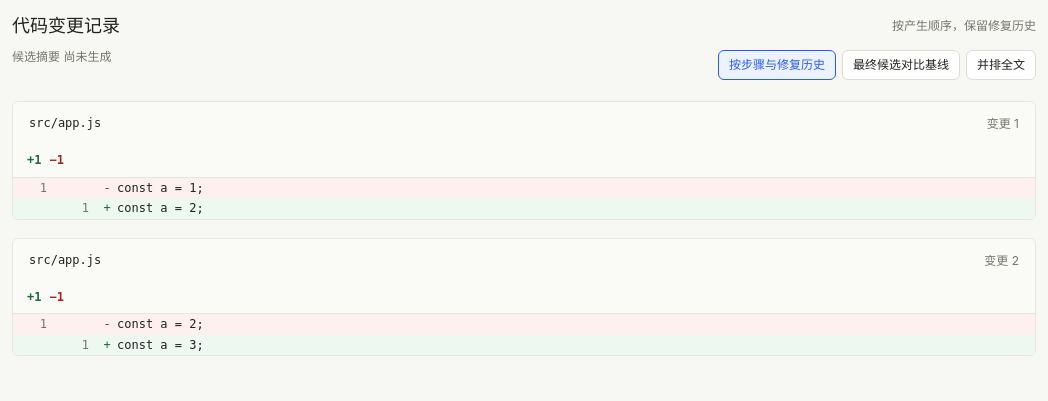
Scenario: switches between step history, net baseline diff, and side-by-side in code changes view
The image size is (1048, 401).
Check: the text "src/app.js" is shown 2 times, box [29,114,101,133]; [29,251,101,270]
Check: the text "变更 1" is shown, box [987,114,1019,133]
Click the button "最终候选对比基线" at (901, 65), box [842,50,960,80]
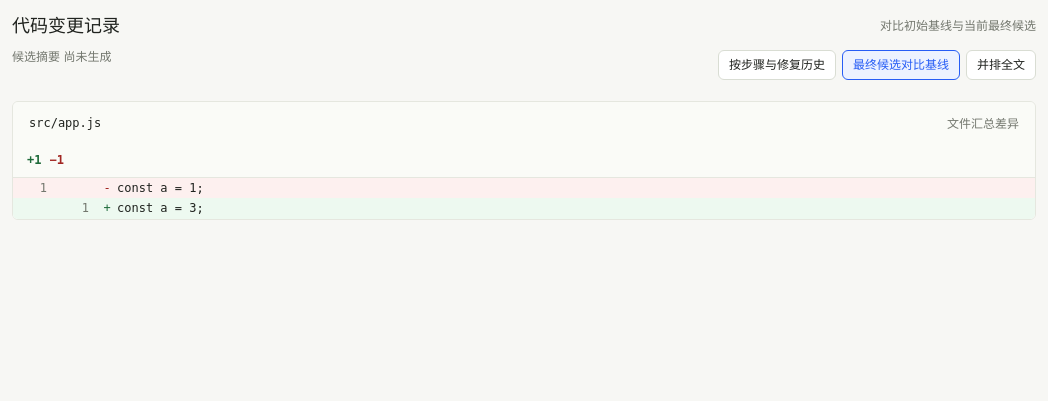
Check: the text "src/app.js" is shown once, box [29,114,101,133]
Check: the text "const a = 1;" is shown, box [117,181,204,195]
Click the button "并排全文" at (1001, 65), box [966,50,1036,80]
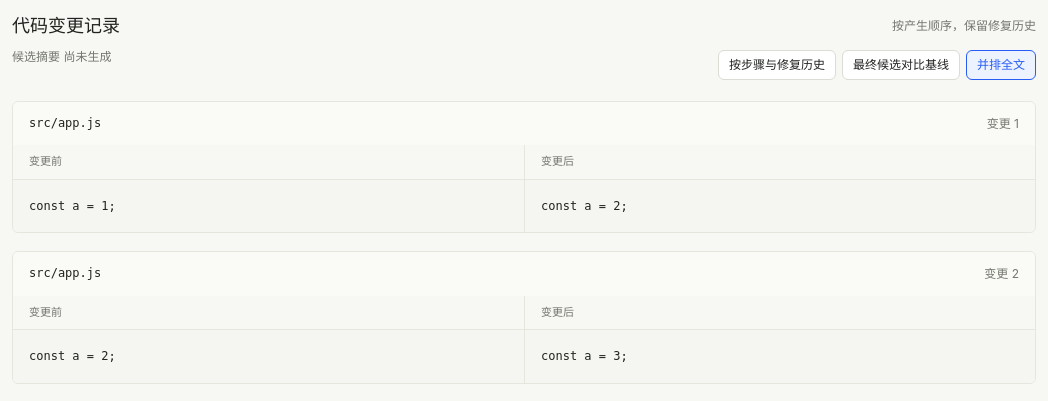
Check: the number of headings "变更前" is 2, box [13,145,524,180]; [13,296,524,330]
Check: the number of headings "变更后" is 2, box [525,145,1035,180]; [525,296,1035,330]
